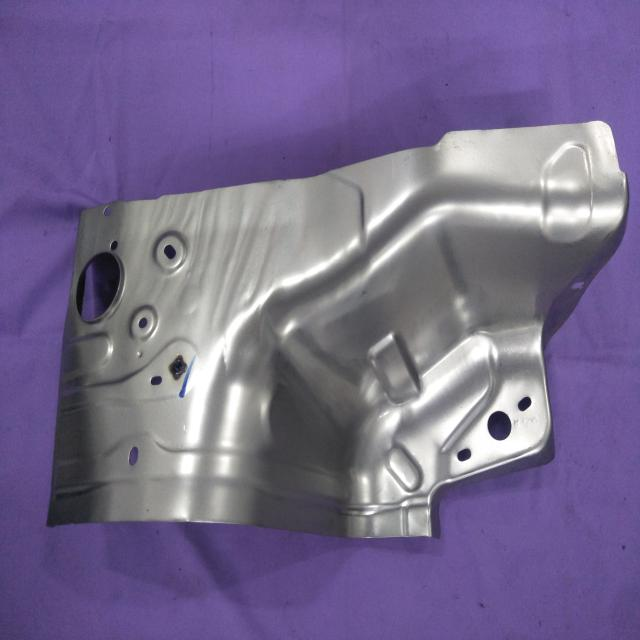Healthy: (46, 117, 629, 542)
